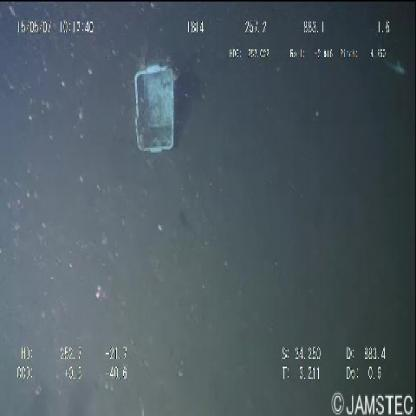Rác: (126, 48, 184, 162)
